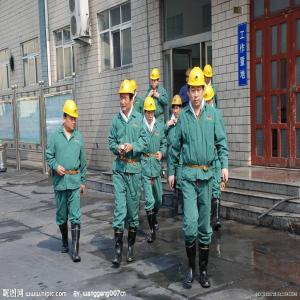yellow: (188, 68, 206, 108), (63, 100, 79, 134), (120, 79, 134, 114), (144, 98, 157, 124), (172, 95, 183, 119), (204, 85, 215, 109), (151, 68, 160, 89), (203, 66, 213, 84)
